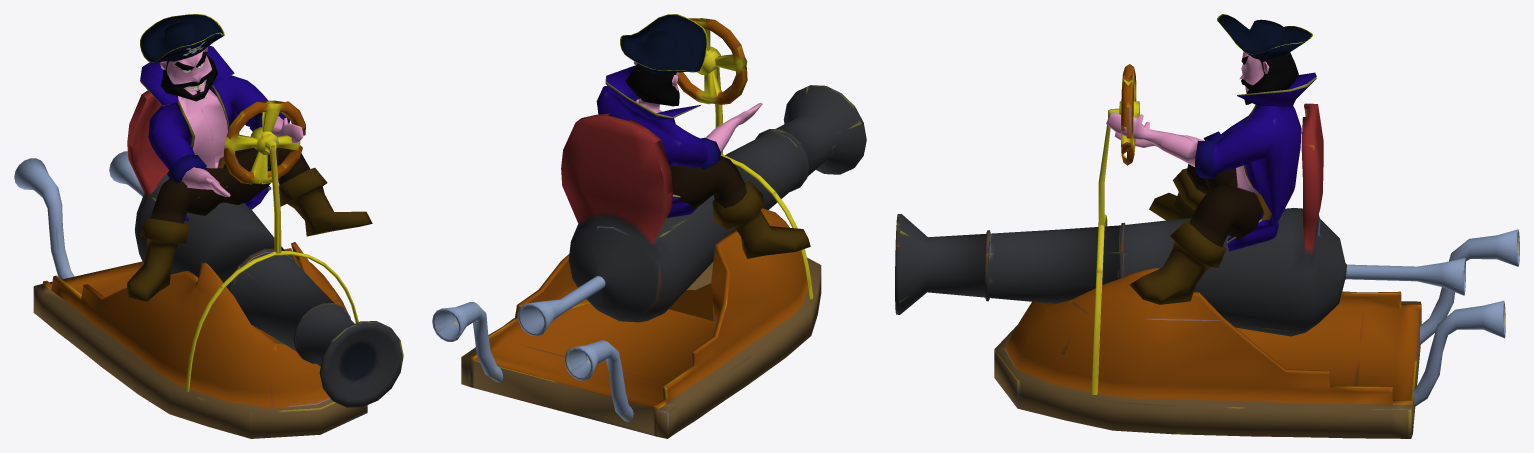
File: pirataGiroDer_000169.obj
3 views of the same model, side by side, from view 1: azimuth 30°, elevation 25°; view 2: azimuth 150°, elevation 25°; view 3: azimuth 270°, elevation 25° (orthographic). The views are drawn at different scales.
Parts seen in each view (by area): view 1: carro_pirata, Pirata_PirataH_Pirata_PirataH.001; view 2: carro_pirata, Pirata_PirataH_Pirata_PirataH.001; view 3: carro_pirata, Pirata_PirataH_Pirata_PirataH.001.
Part boxes in pixels (x1=…): carro_pirata: x1=14, y1=90, x2=403, y2=438; Pirata_PirataH_Pirata_PirataH.001: x1=126, y1=14, x2=372, y2=301; carro_pirata: x1=432, y1=18, x2=866, y2=438; Pirata_PirataH_Pirata_PirataH.001: x1=596, y1=14, x2=810, y2=258; carro_pirata: x1=895, y1=64, x2=1519, y2=438; Pirata_PirataH_Pirata_PirataH.001: x1=1106, y1=14, x2=1316, y2=304.
Size of the model in its own units: 5.65 by 7.53 by 12.1.
Materials: 2 (2 with a texture image).
